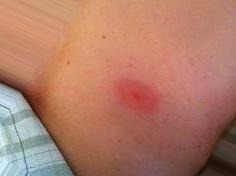Tick: (106, 70, 166, 122)
